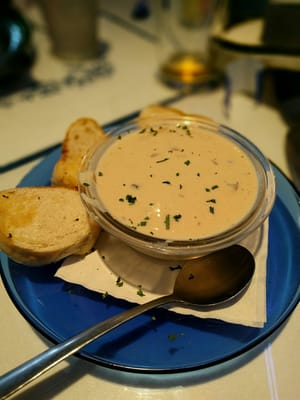burger: (102, 74, 223, 137)
